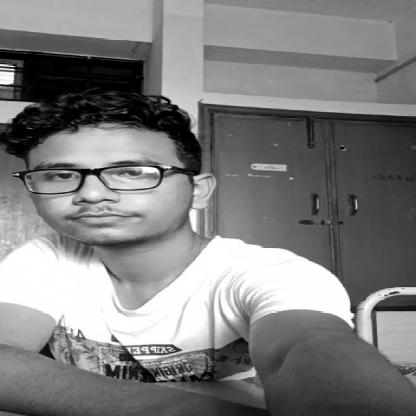Normal: (0, 93, 196, 251)
